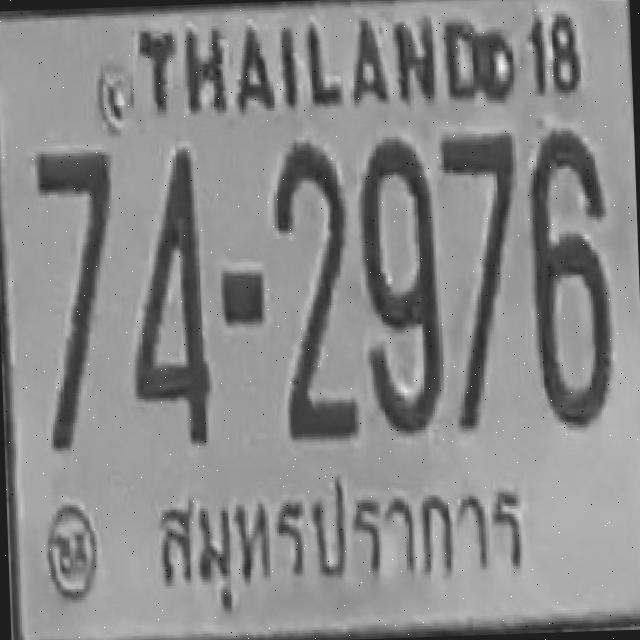0: (356, 135, 439, 353), (355, 135, 437, 326)
4: (124, 147, 212, 447)
6: (526, 129, 614, 429)
7: (439, 131, 519, 321), (32, 150, 114, 335), (438, 131, 517, 302)
9: (358, 162, 443, 434), (360, 202, 442, 432)
SamutPrakan: (135, 448, 536, 619)
